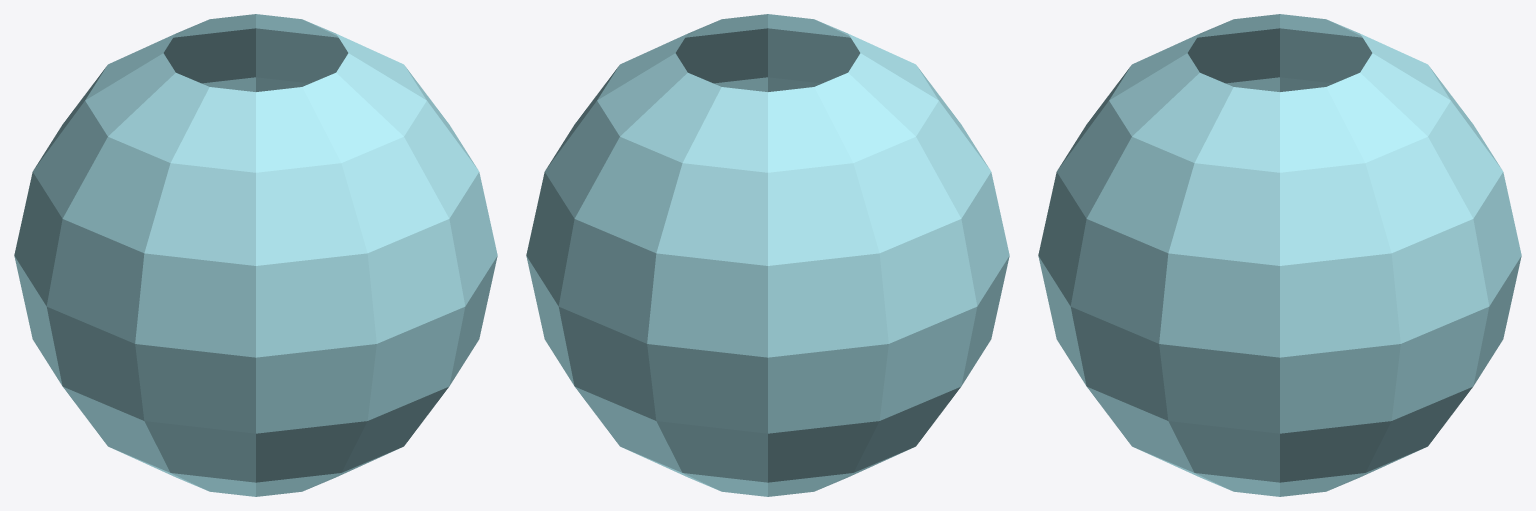
File: 31_shield_bubble.glb
3 views of the same model, side by side, from view 1: azimuth 30°, elevation 25°; view 2: azimuth 150°, elevation 25°; view 3: azimuth 270°, elevation 25° (orthographic).
Visible parts, largest first — view 1: 31_shield_bubble; view 2: 31_shield_bubble; view 3: 31_shield_bubble.
Part boxes in pixels (left/top/right/bottom): 31_shield_bubble: left=14, top=14, right=497, bottom=496; 31_shield_bubble: left=526, top=14, right=1009, bottom=496; 31_shield_bubble: left=1038, top=14, right=1521, bottom=496.
Bounding box in the file's own units: 1.7 × 1.64 × 1.7.
